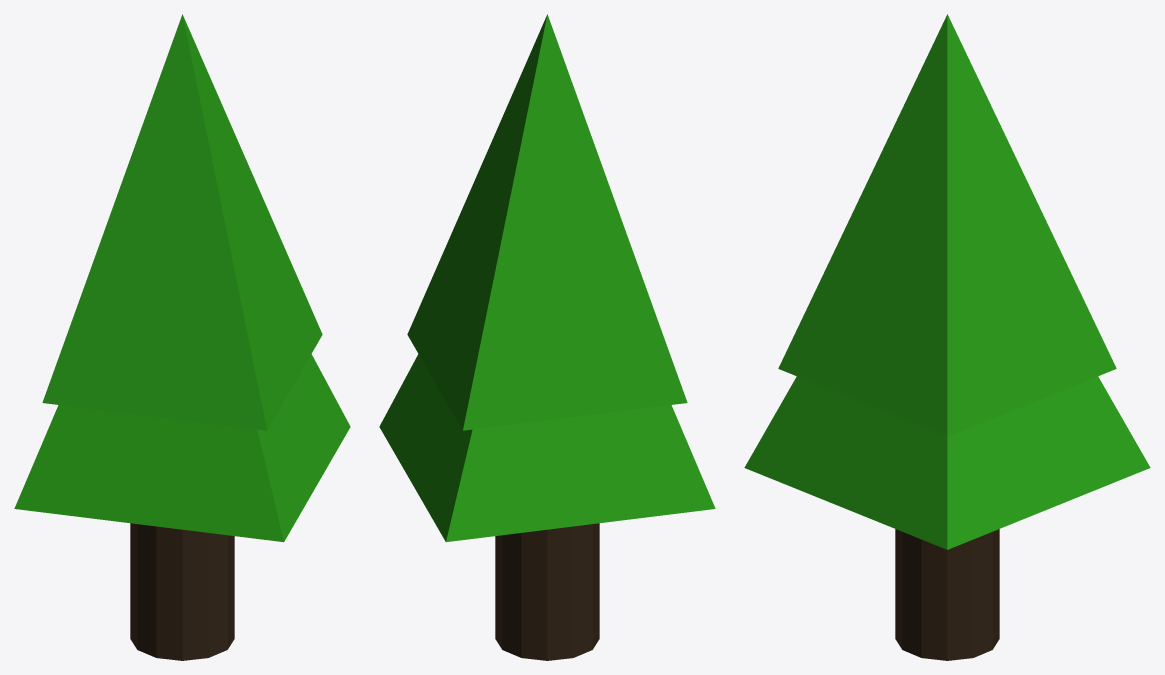
Rendered from smalltree.dae.
3 renders of one model, left to right at view 1: azimuth 30°, elevation 25°; view 2: azimuth 150°, elevation 25°; view 3: azimuth 270°, elevation 25°, orthographic.
Parts seen in each view (by area): view 1: Cone, Cone.001, Cylinder; view 2: Cone, Cone.001, Cylinder; view 3: Cone, Cone.001, Cylinder.
Boxes of the visible parts, box(x1,y1,x2,y2) form: Cone: box(42, 14, 322, 430); Cone.001: box(14, 354, 350, 542); Cylinder: box(130, 523, 234, 660); Cone: box(407, 14, 687, 430); Cone.001: box(379, 354, 715, 542); Cylinder: box(495, 523, 599, 660); Cone: box(778, 14, 1116, 436); Cone.001: box(744, 376, 1150, 549); Cylinder: box(895, 529, 999, 660).
Bounding box in the file's own units: 7.45 × 7.79 × 13.22.
